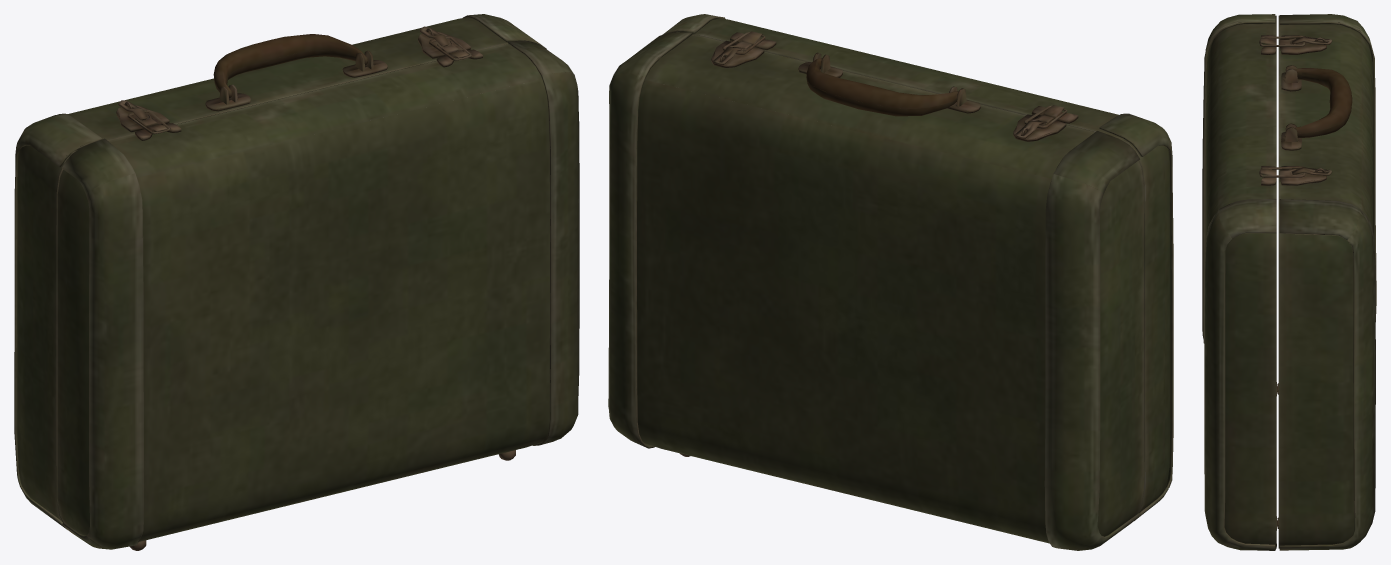
File: suitcase.glb
The picture shows the model from 3 angles, left to right: view 1: azimuth 30°, elevation 25°; view 2: azimuth 150°, elevation 25°; view 3: azimuth 270°, elevation 25°; orthographic projection. The views are drawn at different scales.
Parts seen in each view (by area): view 1: vintage_suitcase_01_bottom; view 2: vintage_suitcase_01_bottom; view 3: vintage_suitcase_01_bottom.
Boxes of the visible parts, x1,y1,x2,y2 form: vintage_suitcase_01_bottom: (14, 14, 579, 550); vintage_suitcase_01_bottom: (608, 14, 1173, 550); vintage_suitcase_01_bottom: (1202, 14, 1376, 550).
Size of the model in its own units: 0.6938 by 0.5681 by 0.2391.
1 material, 1 textured.
